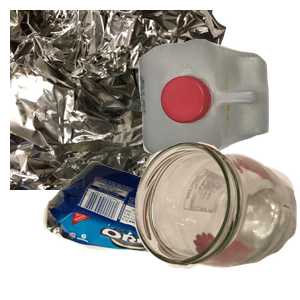glass: (132, 139, 300, 300)
metal: (10, 10, 229, 190)
plastic: (136, 37, 300, 188)
trash: (40, 158, 245, 300)
